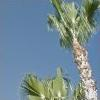Tree: (44, 0, 100, 51)
